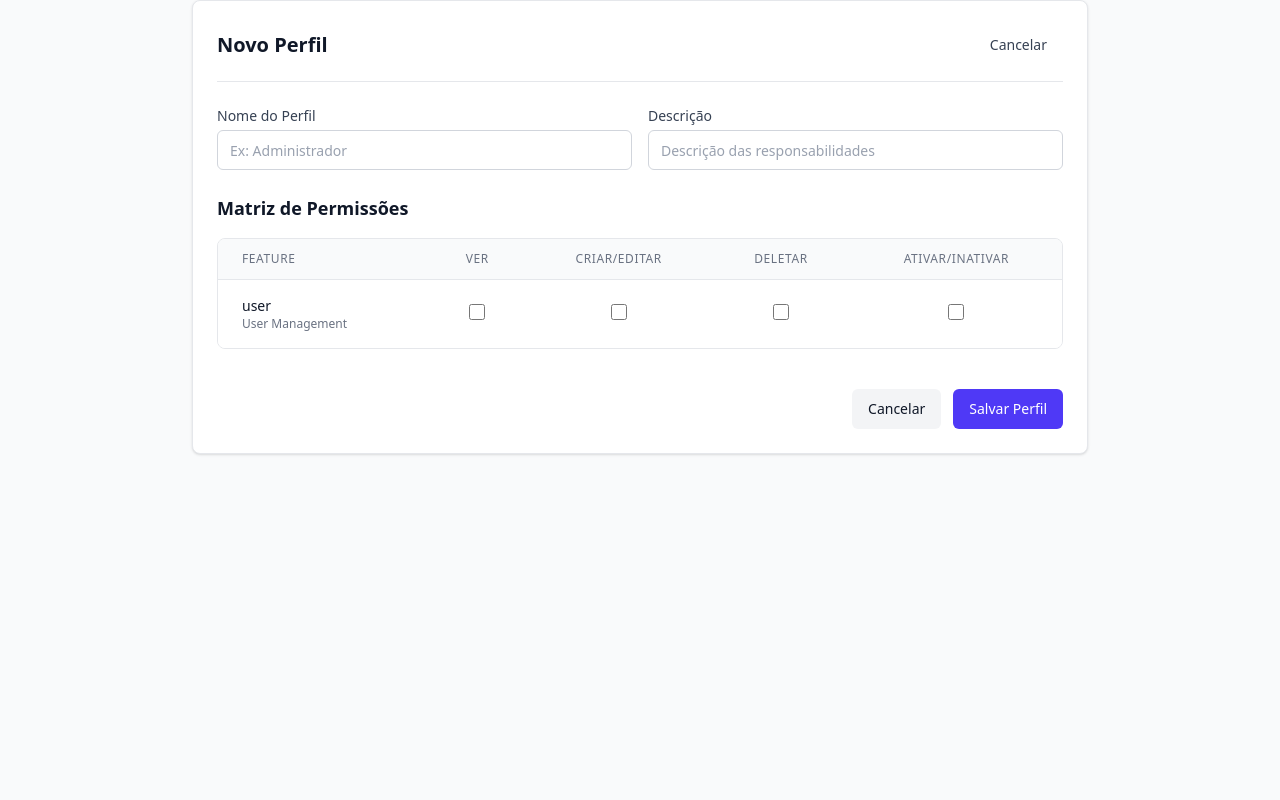
Test: RoleFormPage › shows "Salvando..." text when mutation is pending
The width and height of the screenshot is (1280, 800).
In the field labelled "Nome do Perfil": point(424, 150) [217,130,632,170], type "Admin"
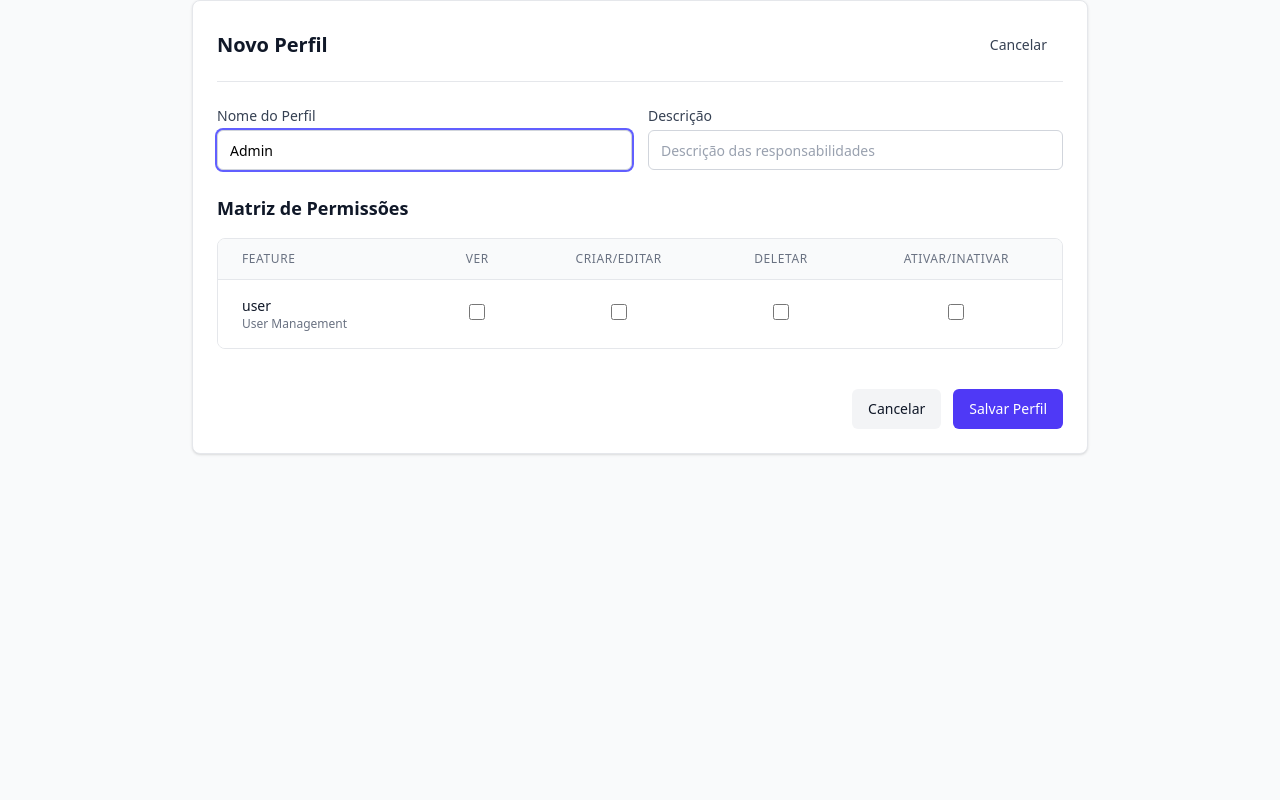
In the field labelled "Descrição": point(856, 150) [648,130,1063,170], type "Test Description"
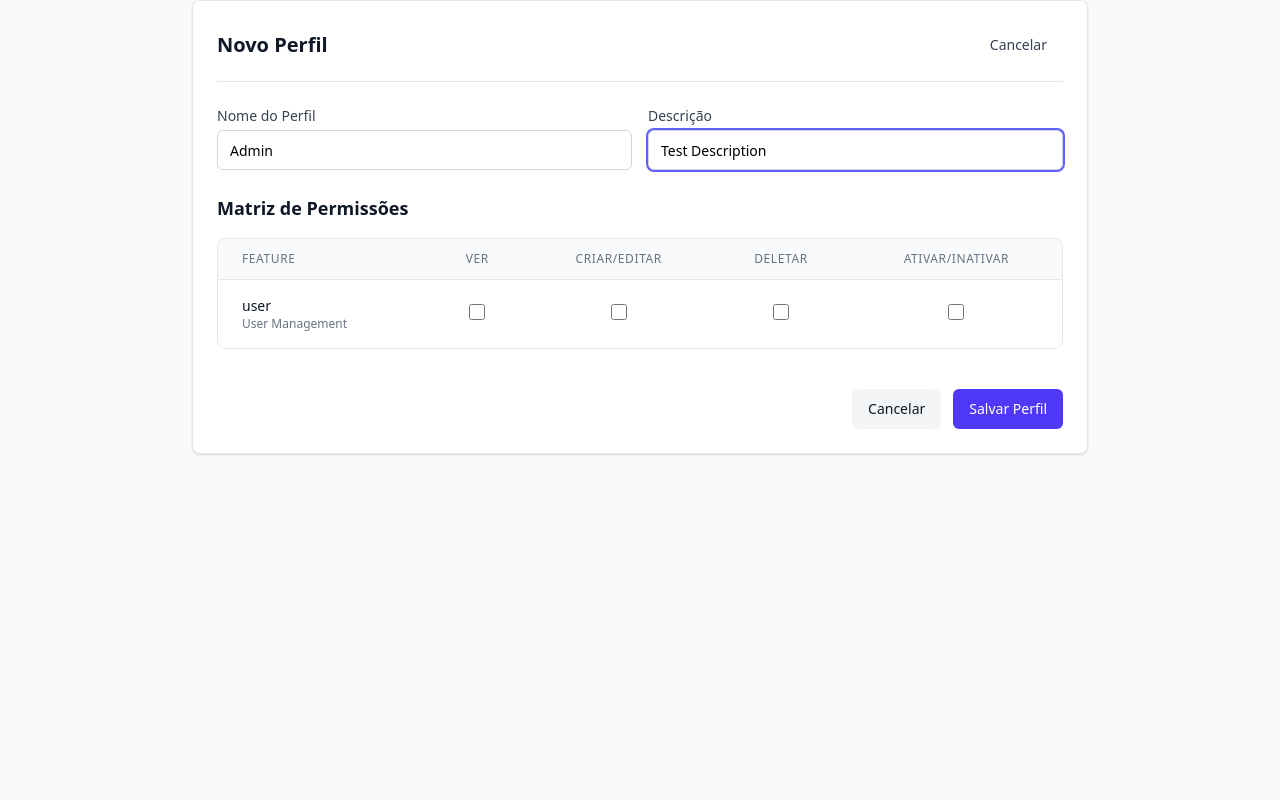
Click the button "Salvar Perfil": point(1008, 409) [953,389,1063,429]
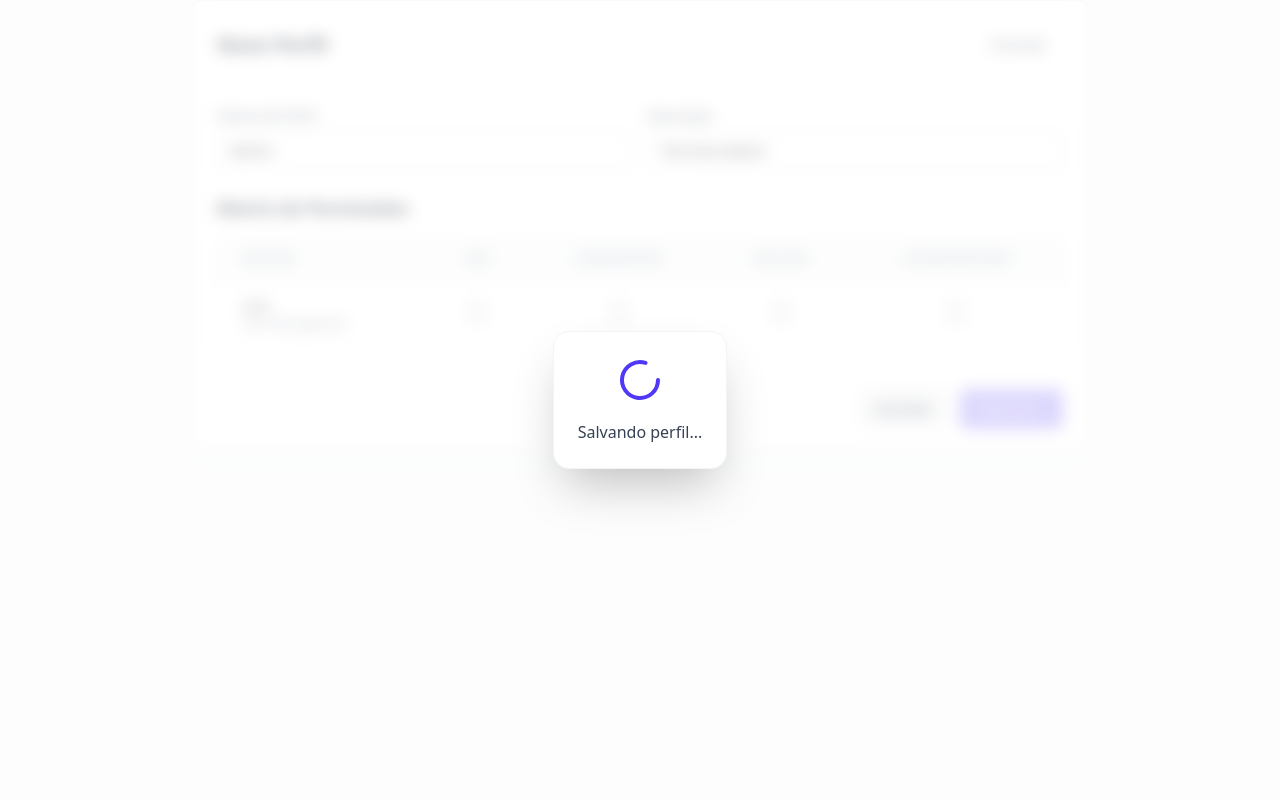
Result: the button "Salvando..." is shown at [960,389,1063,429]
